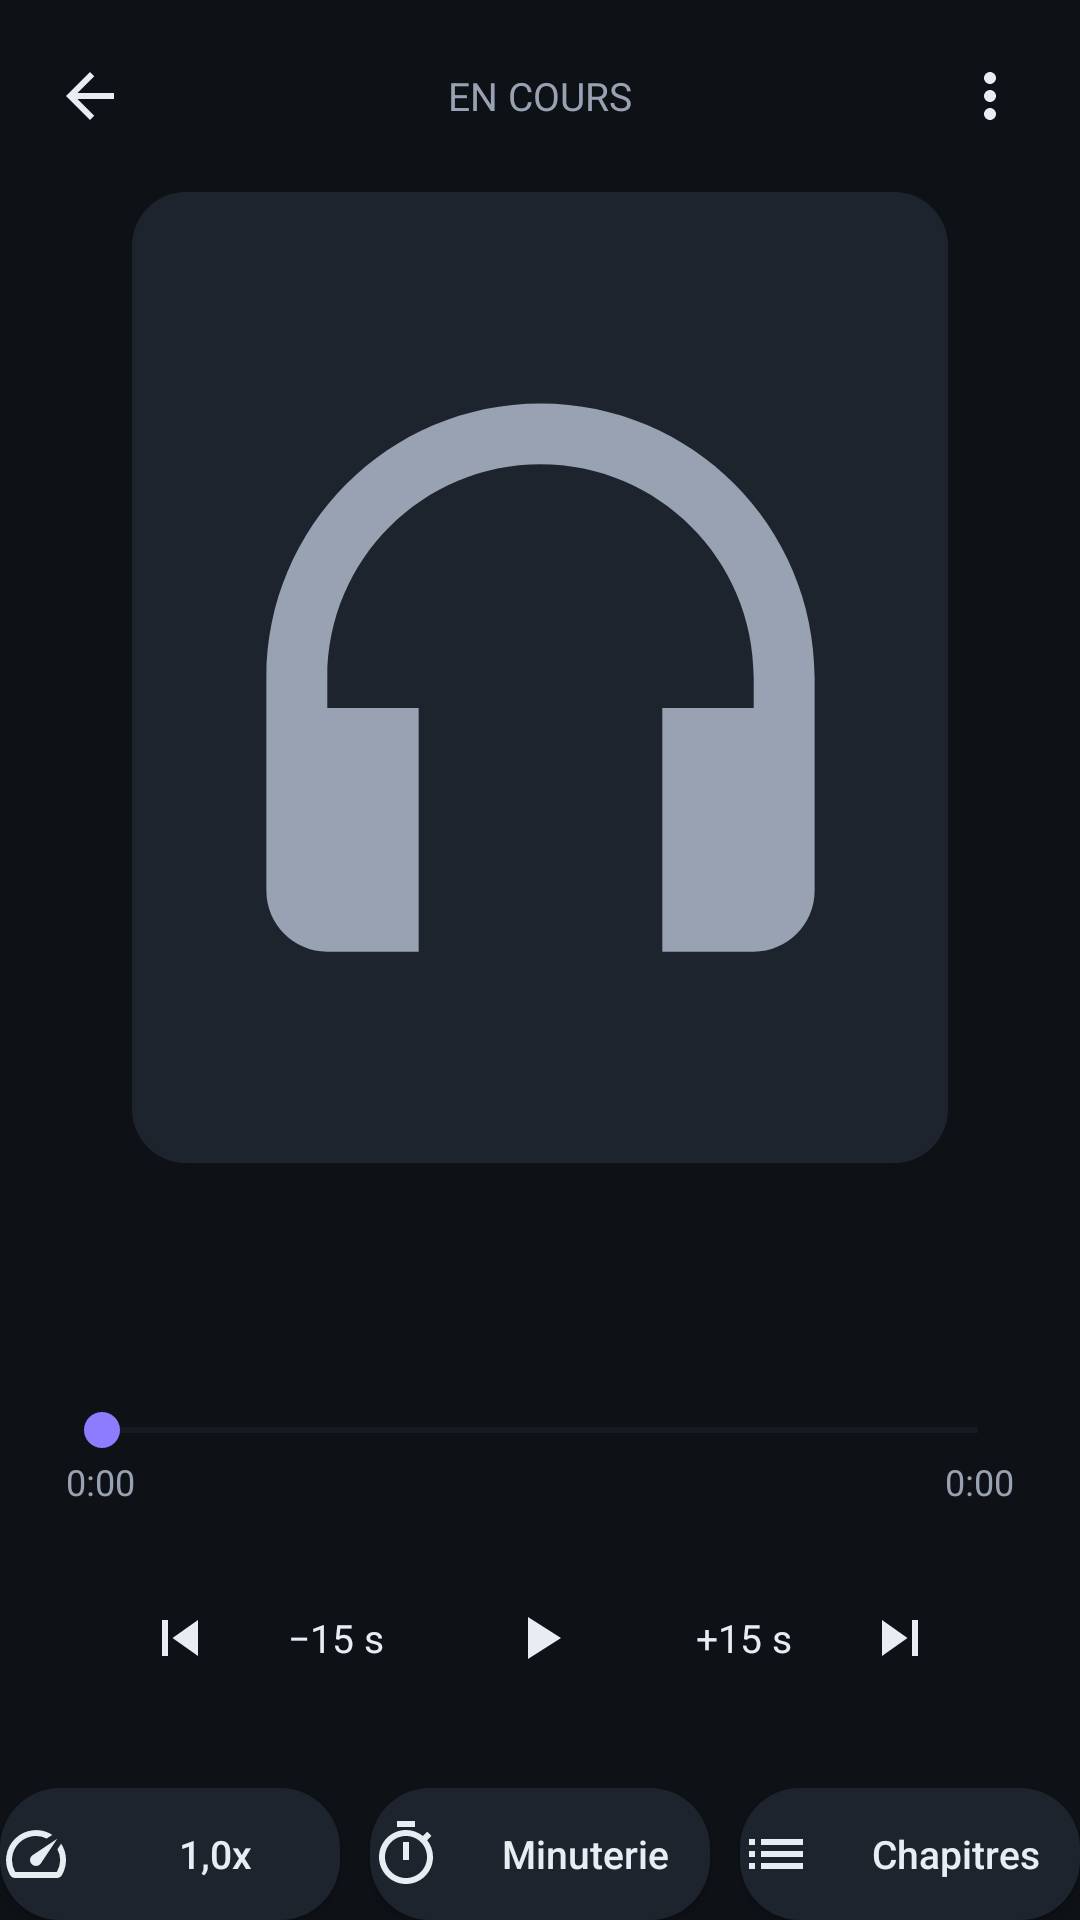

Icons on this 1080×1920 Android screen, each with the point to tap as [x,y]:
back: [90,96]
Chapitre précédent: [180,1638]
Lecture: [544,1638]
more: [990,96]
